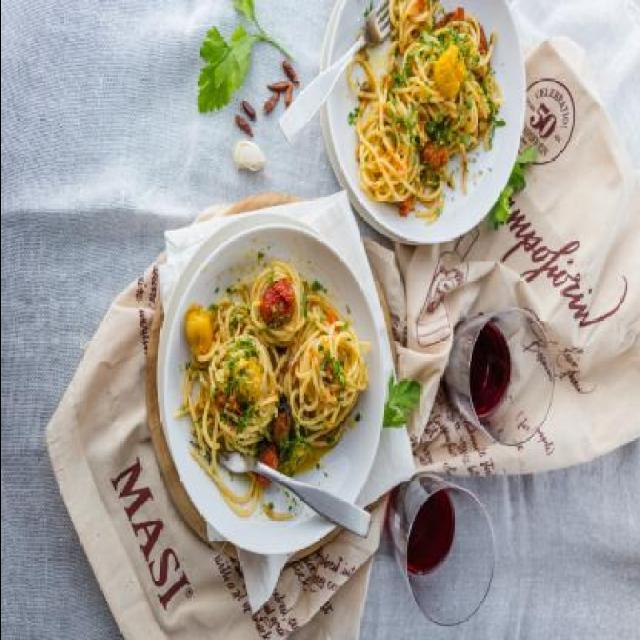Oil pasta: (172, 256, 382, 544)
